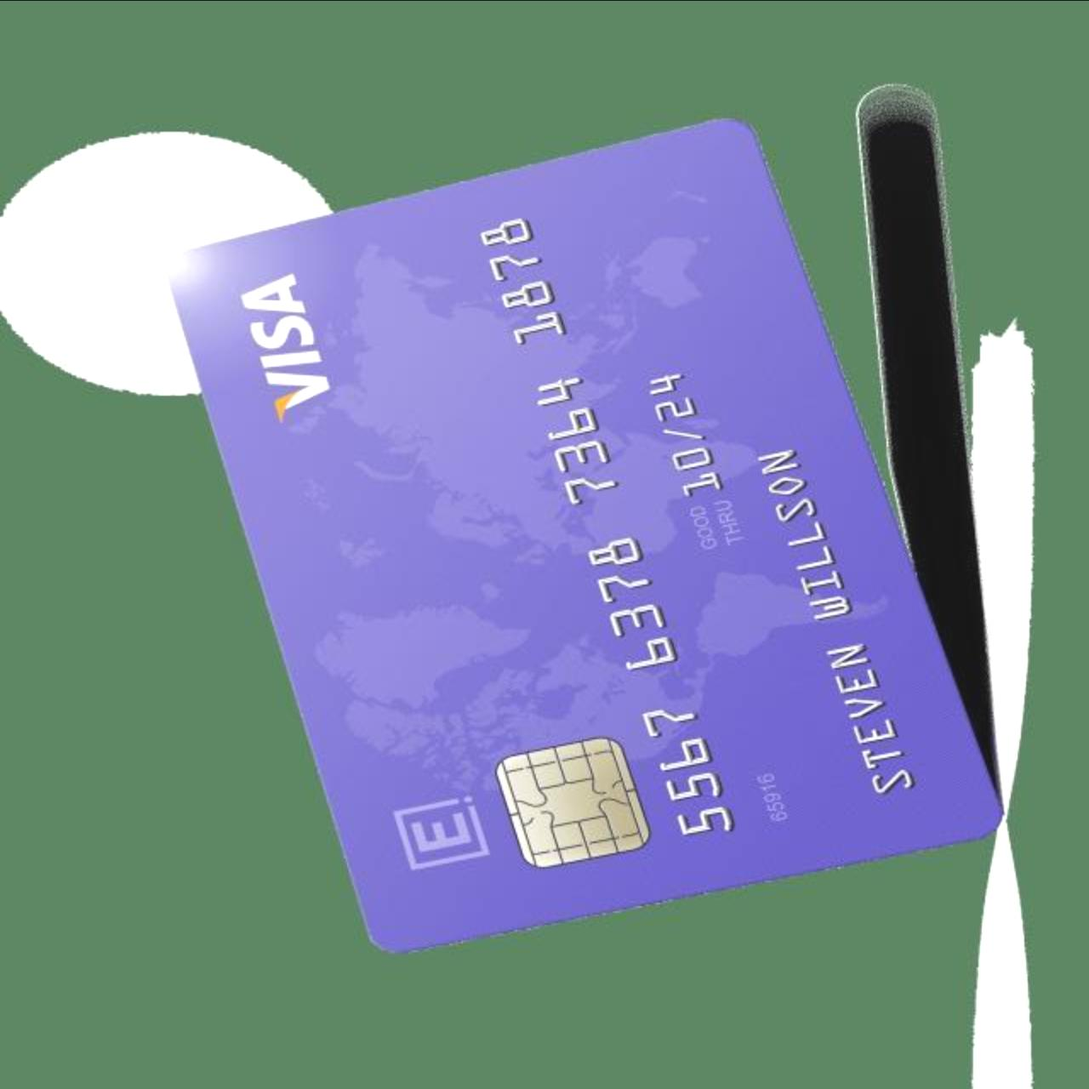credit_card: (167, 105, 1018, 963)
